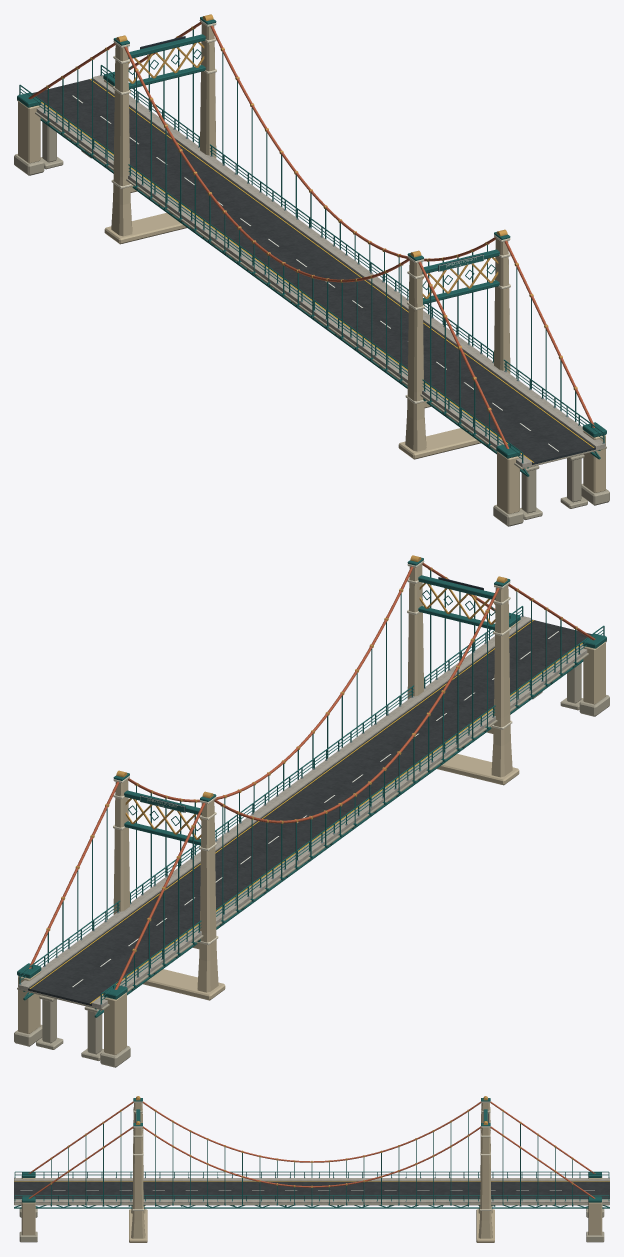
3 views of the same model, one above another, from view 1: azimuth 30°, elevation 25°; view 2: azimuth 150°, elevation 25°; view 3: azimuth 270°, elevation 25° (orthographic). The views are drawn at different scales.
Parts seen in each view (by area): view 1: Running course, Outer footbridles, Faceted portal towers, Suspender rods, Longitudinal handrails, Main suspension cables, Anchor towers, Tower pile raft, Crown tie girders, Chamfered pier, Slab soffit, Railing stanchions (+6 smaller); view 2: Running course, Outer footbridles, Faceted portal towers, Suspender rods, Longitudinal handrails, Main suspension cables, Anchor towers, Tower pile raft, Crown tie girders, Chamfered pier, Slab soffit, Railing stanchions (+6 smaller); view 3: Running course, Outer footbridles, Longitudinal handrails, Faceted portal towers, Main suspension cables, Suspender rods, Slab soffit, Stiffening truss chords, Anchor towers, Railing stanchions, Tower pile raft, Edge lines (+5 smaller).
Part boxes in pixels (left/top/right/bottom): Running course: left=32, top=78, right=595, bottom=464; Outer footbridles: left=36, top=75, right=605, bottom=467; Faceted portal towers: left=111, top=23, right=510, bottom=451; Suspender rods: left=47, top=29, right=576, bottom=444; Longitudinal handrails: left=19, top=65, right=603, bottom=458; Main suspension cables: left=28, top=22, right=594, bottom=448; Anchor towers: left=18, top=79, right=605, bottom=513; Tower pile raft: left=104, top=213, right=480, bottom=459; Crown tie girders: left=128, top=34, right=499, bottom=304; Chamfered pier: left=42, top=122, right=581, bottom=513; Slab soffit: left=17, top=99, right=606, bottom=469; Railing stanchions: left=19, top=65, right=604, bottom=462; Running course: left=28, top=619, right=591, bottom=1005; Outer footbridles: left=18, top=616, right=587, bottom=1008; Faceted portal towers: left=113, top=564, right=512, bottom=992; Suspender rods: left=47, top=570, right=576, bottom=985; Longitudinal handrails: left=20, top=606, right=604, bottom=999; Main suspension cables: left=29, top=563, right=595, bottom=989; Anchor towers: left=18, top=620, right=605, bottom=1054; Tower pile raft: left=143, top=754, right=519, bottom=1000; Crown tie girders: left=124, top=575, right=495, bottom=845; Chamfered pier: left=42, top=663, right=581, bottom=1054; Slab soffit: left=17, top=640, right=606, bottom=1010; Railing stanchions: left=19, top=606, right=604, bottom=1003; Running course: left=14, top=1181, right=609, bottom=1198; Outer footbridles: left=14, top=1178, right=609, bottom=1203; Longitudinal handrails: left=15, top=1171, right=608, bottom=1199; Faceted portal towers: left=131, top=1103, right=492, bottom=1238; Main suspension cables: left=28, top=1101, right=595, bottom=1198; Suspender rods: left=51, top=1112, right=572, bottom=1203; Slab soffit: left=14, top=1203, right=609, bottom=1205; Stiffening truss chords: left=14, top=1207, right=609, bottom=1208; Anchor towers: left=21, top=1176, right=602, bottom=1235; Railing stanchions: left=14, top=1172, right=609, bottom=1201; Tower pile raft: left=129, top=1209, right=494, bottom=1242; Edge lines: left=14, top=1181, right=609, bottom=1181.
Size of the model in its own units: 11.7 by 21.04 by 96.04.
14 materials, 2 textured.
